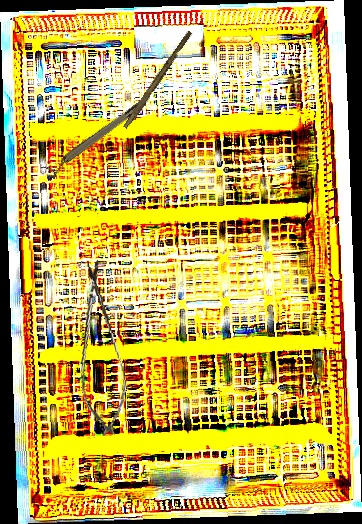Fixation Ring: (41, 97, 151, 181)
Micro Scissor: (68, 258, 132, 438)
Scalpel Handle: (123, 29, 193, 131)
